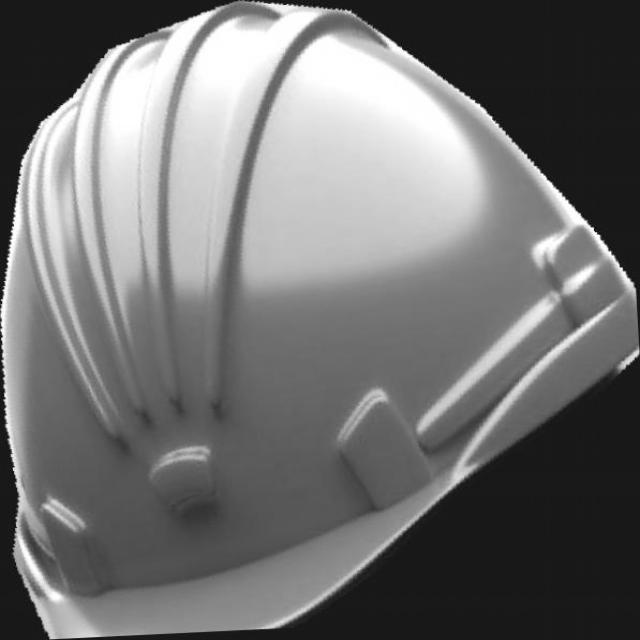construction helmet: (1, 1, 639, 639)
